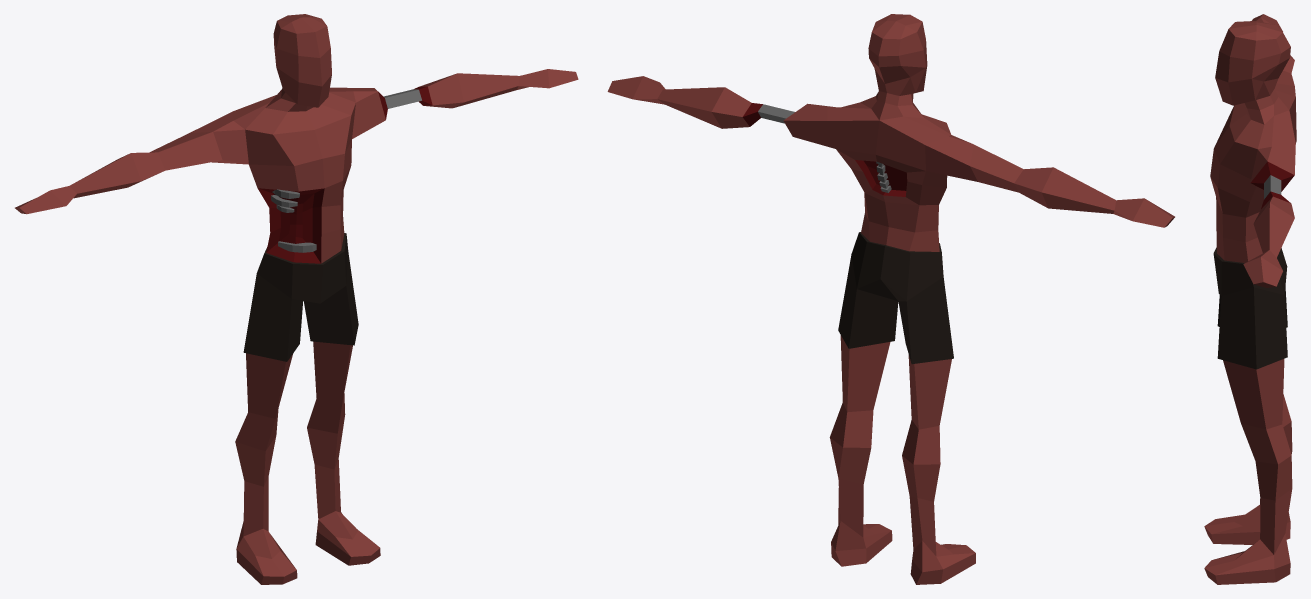
Rendered from FireZombusNOFIRE.fbx.
3 views of the same model, side by side, from view 1: azimuth 30°, elevation 25°; view 2: azimuth 150°, elevation 25°; view 3: azimuth 270°, elevation 25° (orthographic). The views are drawn at different scales.
Parts seen in each view (by area): view 1: BASE_Low Poly Man, BASE_Low Poly Man.001; view 2: BASE_Low Poly Man; view 3: BASE_Low Poly Man.
Boxes of the visible parts, bbox=[...] form: BASE_Low Poly Man: bbox=[15, 14, 578, 584]; BASE_Low Poly Man.001: bbox=[271, 189, 316, 252]; BASE_Low Poly Man: bbox=[607, 14, 1174, 584]; BASE_Low Poly Man: bbox=[1204, 14, 1296, 584].
Size of the model in its own units: 400 by 370 by 58.27.
